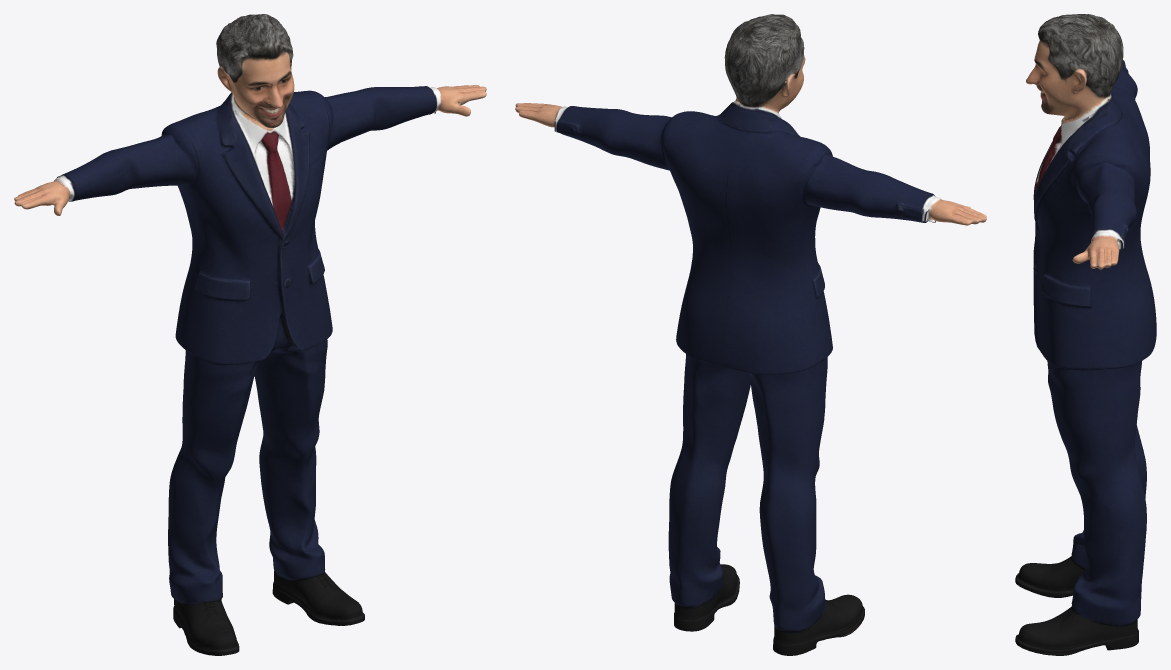
Rendered from Integrante_Grizzolito_Marolis.glb.
The picture shows the model from 3 angles, left to right: view 1: azimuth 30°, elevation 25°; view 2: azimuth 150°, elevation 25°; view 3: azimuth 270°, elevation 25°; orthographic projection.
Bounding box in the file's own units: 1.55 × 1.9 × 0.4049.
Materials: 1 (1 with a texture image).
